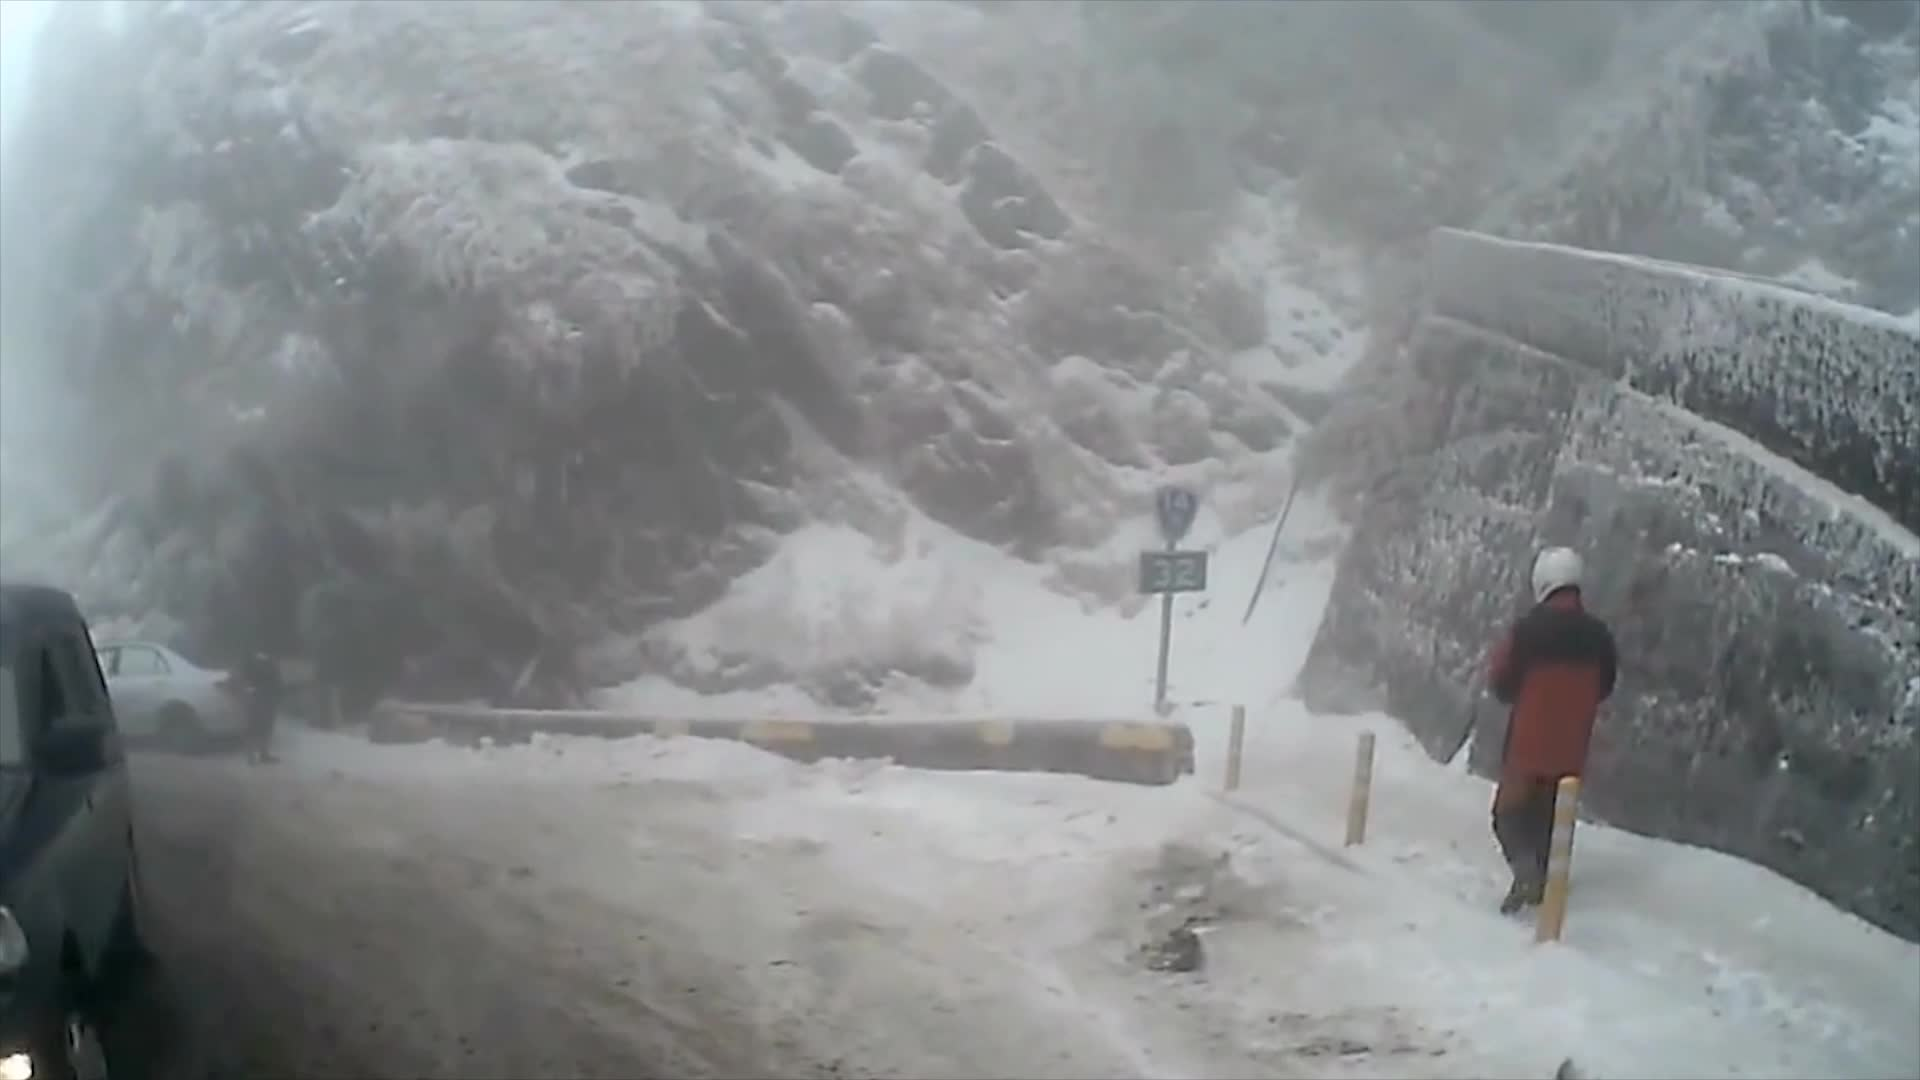pedestrian: (1480, 540, 1615, 914), (238, 638, 286, 764)
vehicle: (0, 582, 154, 1080), (0, 640, 249, 759)
